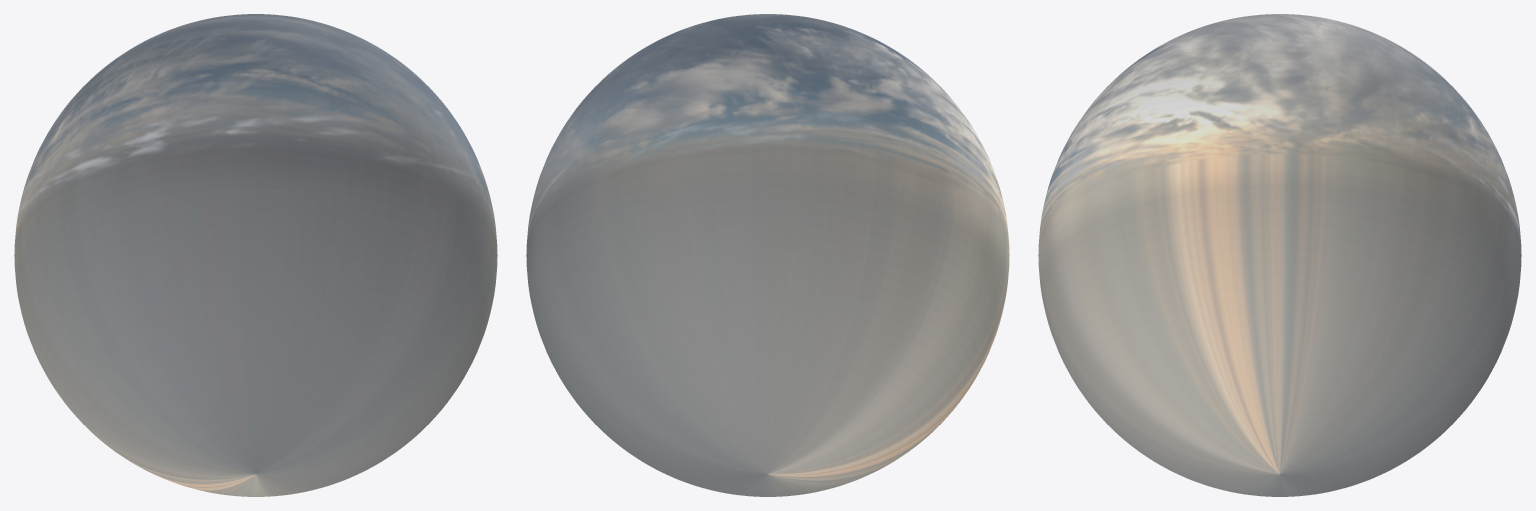
File: sky_dome_v5_day.glb
The picture shows the model from 3 angles, left to right: view 1: azimuth 30°, elevation 25°; view 2: azimuth 150°, elevation 25°; view 3: azimuth 270°, elevation 25°; orthographic projection.
Visible parts, largest first — view 1: sky_dome_v5_day; view 2: sky_dome_v5_day; view 3: sky_dome_v5_day.
Part boxes in pixels (box(x1,y1,x2,y2)): sky_dome_v5_day: box(14, 14, 497, 496); sky_dome_v5_day: box(526, 14, 1009, 496); sky_dome_v5_day: box(1038, 14, 1521, 496).
Bounding box in the file's own units: 7600 × 7600 × 7600.
Materials: 1 (1 with a texture image).
